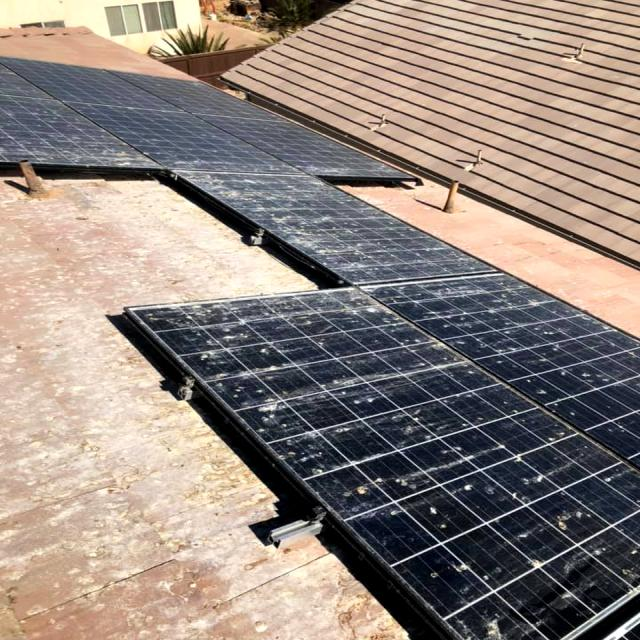bird: (340, 368, 486, 472), (401, 486, 604, 556), (217, 180, 402, 253), (178, 302, 284, 412), (310, 306, 480, 354), (539, 342, 618, 418)
